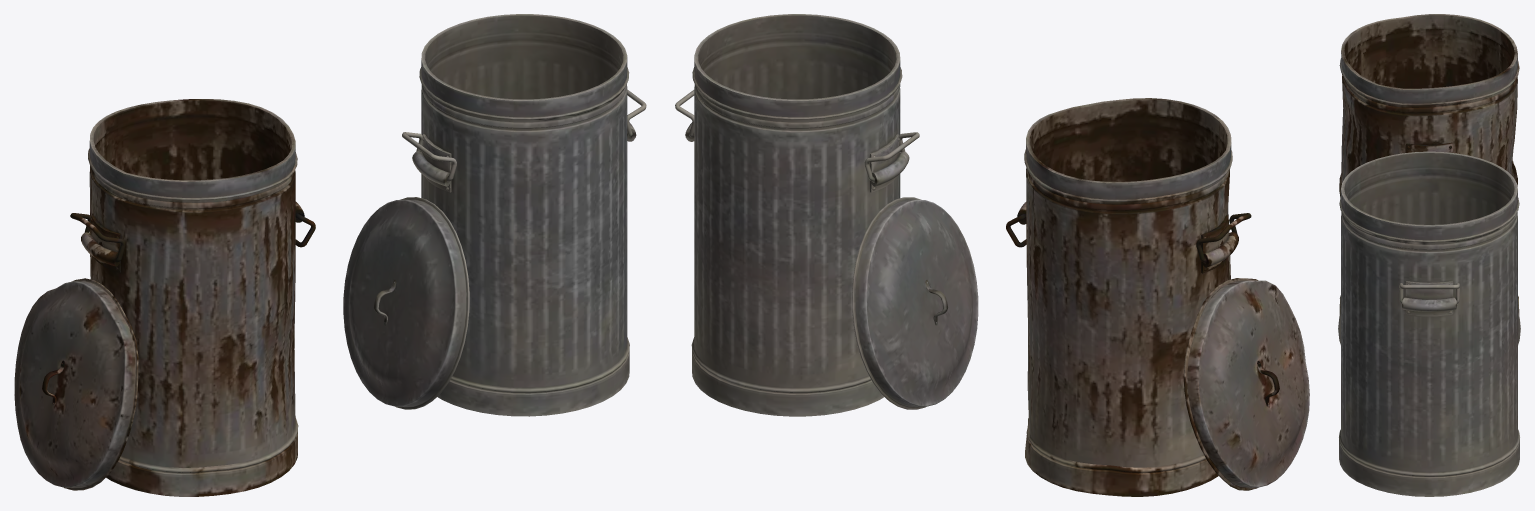
File: metal_trash_can.glb
3 renders of one model, left to right at view 1: azimuth 30°, elevation 25°; view 2: azimuth 150°, elevation 25°; view 3: azimuth 270°, elevation 25°, orthographic. The views are drawn at different scales.
Visible parts, largest first — view 1: metal_trash_can_handle_left, metal_trash_can_rust; view 2: metal_trash_can_handle_left, metal_trash_can_rust; view 3: metal_trash_can_handle_left, metal_trash_can_rust.
Boxes of the visible parts, left/top/right/bottom form: metal_trash_can_handle_left: left=343, top=14, right=646, bottom=416; metal_trash_can_rust: left=14, top=99, right=315, bottom=496; metal_trash_can_handle_left: left=675, top=14, right=978, bottom=416; metal_trash_can_rust: left=1006, top=98, right=1309, bottom=496; metal_trash_can_handle_left: left=1338, top=151, right=1520, bottom=496; metal_trash_can_rust: left=1339, top=14, right=1519, bottom=315.
Size of the model in its own units: 1.78 by 0.9062 by 0.5563.
Materials: 2 (2 with a texture image).
